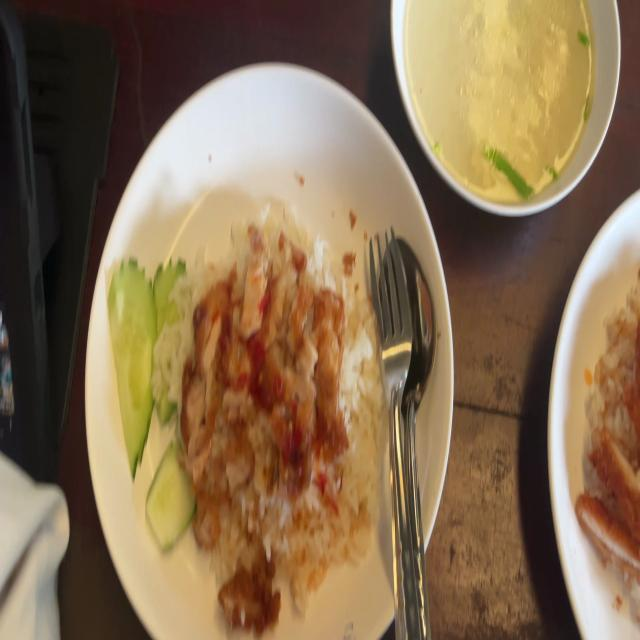chicken_rice: (148, 195, 386, 621), (581, 267, 640, 619)
cucumber: (103, 254, 185, 466), (147, 430, 196, 550)
fried_chicken: (186, 272, 352, 530), (570, 486, 640, 590), (215, 547, 285, 640), (589, 424, 640, 550), (619, 323, 640, 451)
